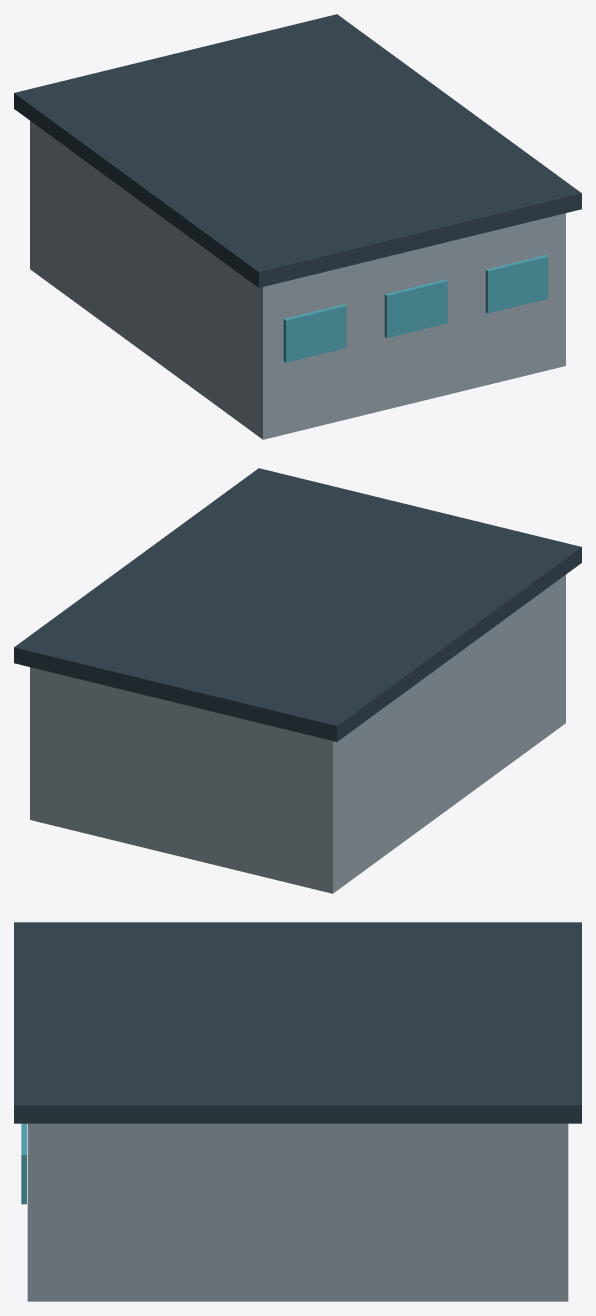
Rendered from utility_building.glb.
3 renders of one model, top to bottom at view 1: azimuth 30°, elevation 25°; view 2: azimuth 150°, elevation 25°; view 3: azimuth 270°, elevation 25°, orthographic. The views are drawn at different scales.
Visible parts, largest first — view 1: Roof, Body, Window_0, Window_1, Window_2; view 2: Roof, Body; view 3: Roof, Body, Window_2.
Boxes of the visible parts, x1,y1,x2,y2 form: Roof: [14, 14, 581, 287]; Body: [30, 121, 565, 439]; Window_0: [283, 304, 346, 362]; Window_1: [384, 279, 447, 337]; Window_2: [485, 255, 548, 313]; Roof: [14, 468, 581, 741]; Body: [30, 575, 565, 893]; Roof: [14, 922, 581, 1123]; Body: [27, 1123, 568, 1301]; Window_2: [21, 1123, 26, 1204].
Size of the model in its own units: 6.4 by 3.3 by 8.4.
